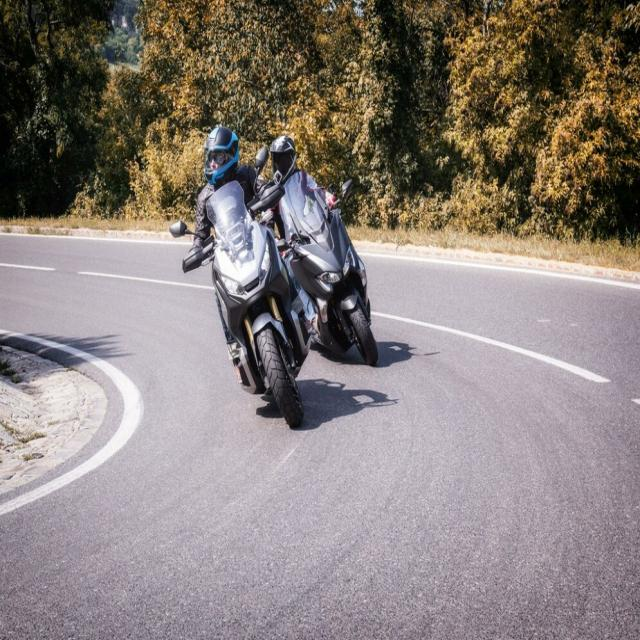Motorcycle: (182, 182, 310, 427), (280, 171, 379, 365)
